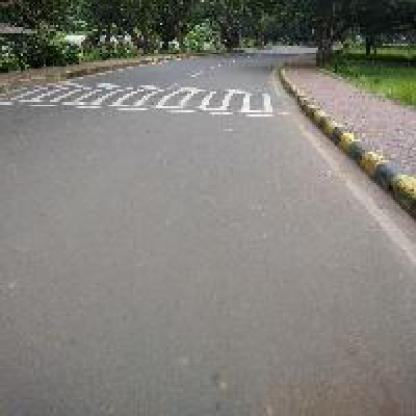Speed Bump: (0, 72, 289, 118)
